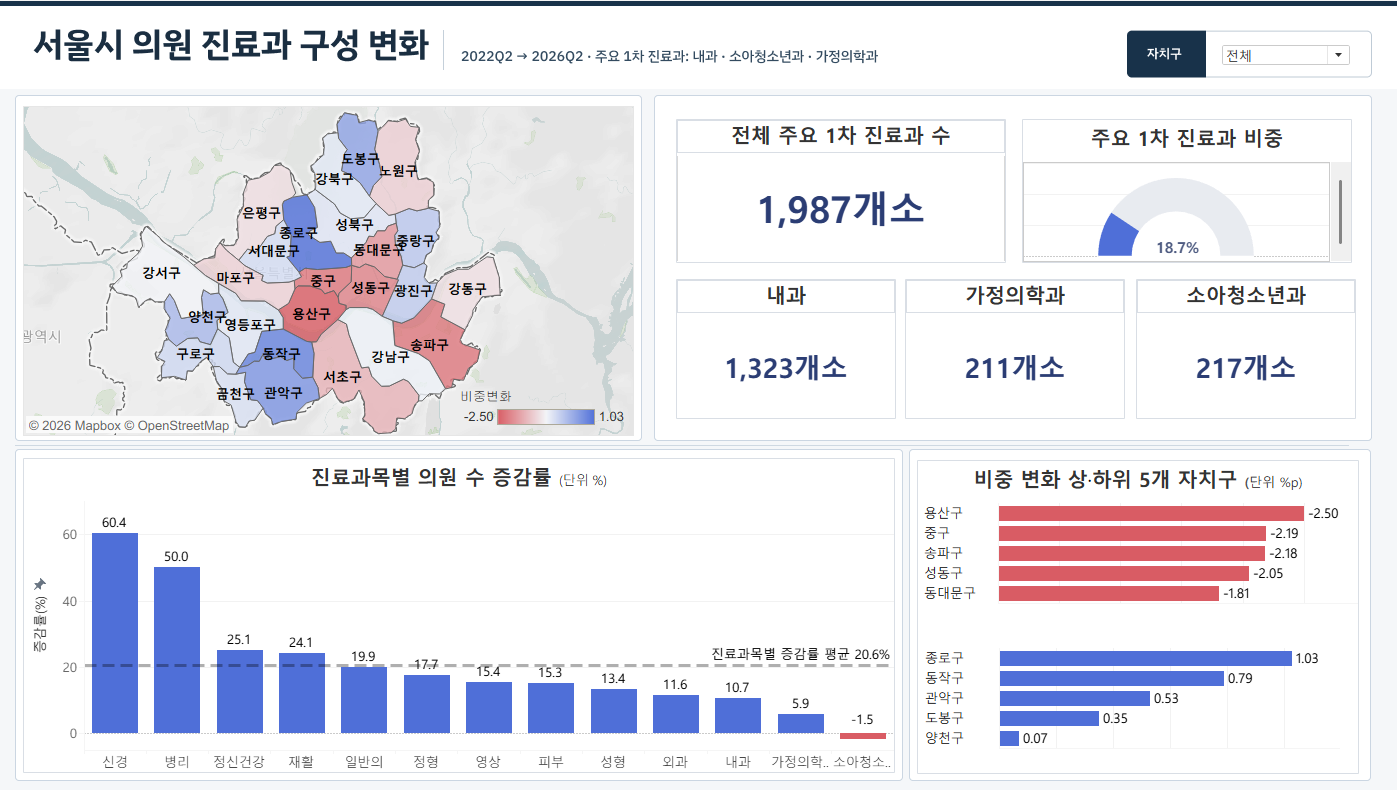

This screenshot's page, from the dashboard's own definition file:
{"tool":"tableau","page":{"name":"대시보드 1","canvas":[1400,800],"ordinal":0},"visuals":[{"type":"image","param":"Image/Group 8.png","box":[0,0,1400,800]},{"type":"image","param":"Image/Group 6.png","box":[0,2,1400,800]},{"type":"title","box":[8,8,1384,56]},{"type":"parameter","param":"[Parameters].[매개 변수 1591853061382167]","box":[1220,41,134,38]},{"type":"worksheet","title":"주요 1차 진료과 비중 지도","mark":"Multipolygon","box":[24,105,611,330]},{"type":"worksheet","title":"전체 의원 수","mark":"Automatic","box":[647,112,175,128]},{"type":"worksheet","title":"1만 명당 내과 의원 수","mark":"Automatic","box":[831,112,175,128]},{"type":"worksheet","title":"1만 명당 소아청소년과 의원 수","mark":"Automatic","box":[1016,112,175,128]},{"type":"worksheet","title":"1만 명당 가정의학과 의원 수","mark":"Automatic","box":[1200,112,175,128]},{"type":"worksheet","title":"시트 20","mark":"Text","box":[677,118,330,144]},{"type":"worksheet","title":"반원차트","mark":"Pie","rows":["Calculation_1591853033824265","Calculation_1591853033824265"],"box":[1023,118,330,144]},{"type":"worksheet","title":"주요 1차 진료과 비중","mark":"Automatic","box":[647,256,175,128]},{"type":"worksheet","title":"연도별그거","mark":"Line","rows":["기관수"],"cols":["분기"],"box":[833,256,540,181]},{"type":"worksheet","title":"내과 의원 수","mark":"Automatic","box":[677,278,220,140]},{"type":"worksheet","title":"가정의학과 의원 수","mark":"Automatic","box":[906,278,220,140]},{"type":"worksheet","title":"소아청소년과 의원 수","mark":"Automatic","box":[1137,278,220,140]},{"type":"legend","title":"주요 1차 진료과 비중 지도","param":"[federated.1tq6ljp0kz92c210znshm1sgp3ex].[sum:변화(%P)1(복사본)_1827150007468047:qk]","box":[461,388,169,38]},{"type":"worksheet","title":"병원지도","mark":"Multipolygon","rows":["위도","위도"],"cols":["경도","경도"],"box":[24,451,460,300]},{"type":"worksheet","title":"증감률","mark":"Bar","rows":["Calculation_1591853027643396"],"cols":["표시과목"],"box":[24,457,872,315]},{"type":"worksheet","title":"필수과증감 (2)","mark":"Bar","rows":["시군구 (서울자치구 핵심과비중.Csv)"],"cols":["Calculation_1827149934944260"],"box":[918,459,442,314]},{"type":"worksheet","title":"22vs 26","mark":"Automatic","rows":["표시과목","분기"],"cols":["기관수"],"box":[499,465,511,320]},{"type":"worksheet","title":"선택과 주요 1차 진료과 변화","mark":"Text","rows":["표시과목"],"box":[1016,491,175,294]},{"type":"worksheet","title":"선택과 주요 1차 진료과 변화 (2)","mark":"Text","rows":["표시과목"],"box":[1198,491,175,294]},{"type":"legend","title":"연도별그거","param":"[federated.1tq6ljp0kz92c210znshm1sgp3ex].[none:표시과목:nk]","box":[1049,690,137,78]}]}

Visuals, with their boxes in screenshot pixels (x1, y1, x2, y2), scaled from the page's 1400x800 canvas onto the 1397x790 screenshot:
image: Rect(0, 0, 1396, 789)
image: Rect(0, 2, 1396, 789)
title: Rect(8, 8, 1389, 63)
parameter: Rect(1217, 40, 1351, 78)
"주요 1차 진료과 비중 지도" worksheet (Multipolygon marks): Rect(24, 104, 634, 430)
"전체 의원 수" worksheet: Rect(646, 111, 820, 237)
"1만 명당 내과 의원 수" worksheet: Rect(829, 111, 1004, 237)
"1만 명당 소아청소년과 의원 수" worksheet: Rect(1014, 111, 1188, 237)
"1만 명당 가정의학과 의원 수" worksheet: Rect(1197, 111, 1372, 237)
"시트 20" worksheet (Text marks): Rect(676, 117, 1005, 259)
"반원차트" worksheet (Pie marks): Rect(1021, 117, 1350, 259)
"주요 1차 진료과 비중" worksheet: Rect(646, 253, 820, 379)
"연도별그거" worksheet (Line marks): Rect(831, 253, 1370, 432)
"내과 의원 수" worksheet: Rect(676, 275, 895, 413)
"가정의학과 의원 수" worksheet: Rect(904, 275, 1124, 413)
"소아청소년과 의원 수" worksheet: Rect(1135, 275, 1354, 413)
"주요 1차 진료과 비중 지도" legend: Rect(460, 383, 629, 421)
"병원지도" worksheet (Multipolygon marks): Rect(24, 445, 483, 742)
"증감률" worksheet (Bar marks): Rect(24, 451, 894, 762)
"필수과증감 (2)" worksheet (Bar marks): Rect(916, 453, 1357, 763)
"22vs 26" worksheet: Rect(498, 459, 1008, 775)
"선택과 주요 1차 진료과 변화" worksheet (Text marks): Rect(1014, 485, 1188, 775)
"선택과 주요 1차 진료과 변화 (2)" worksheet (Text marks): Rect(1195, 485, 1370, 775)
"연도별그거" legend: Rect(1047, 681, 1183, 758)
